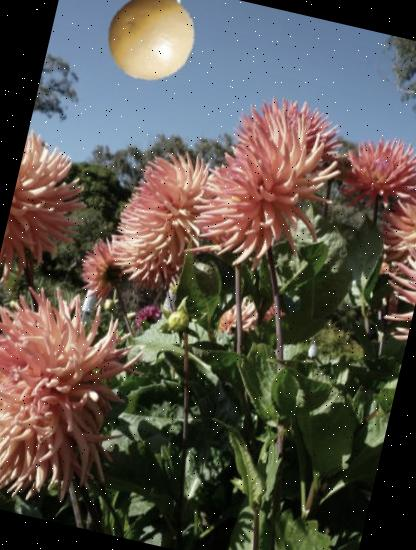Grapefruit: (96, 0, 204, 90)
